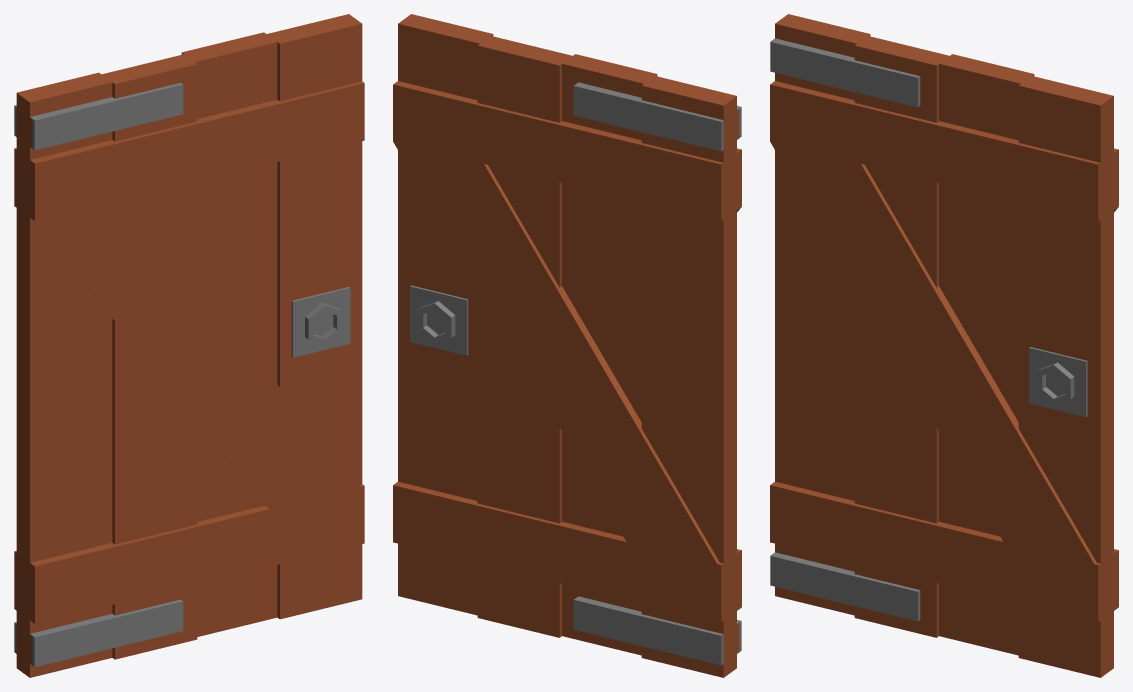
The model's file is Prop_Fantasy_Dungeon_Door_Wooden_Metal_01.FBX.
3 views of the same model, side by side, from view 1: azimuth 30°, elevation 25°; view 2: azimuth 150°, elevation 25°; view 3: azimuth 330°, elevation 25° (orthographic).
Parts seen in each view (by area): view 1: Prop_Fantasy_Dungeon_Door_Wooden_Metal_01; view 2: Prop_Fantasy_Dungeon_Door_Wooden_Metal_01; view 3: Prop_Fantasy_Dungeon_Door_Wooden_Metal_01.
Part boxes in pixels (x1=…): Prop_Fantasy_Dungeon_Door_Wooden_Metal_01: x1=14, y1=14, x2=364, y2=677; Prop_Fantasy_Dungeon_Door_Wooden_Metal_01: x1=393, y1=14, x2=741, y2=677; Prop_Fantasy_Dungeon_Door_Wooden_Metal_01: x1=770, y1=14, x2=1118, y2=677.
Bounding box in the file's own units: 1372 × 2286 × 170.
